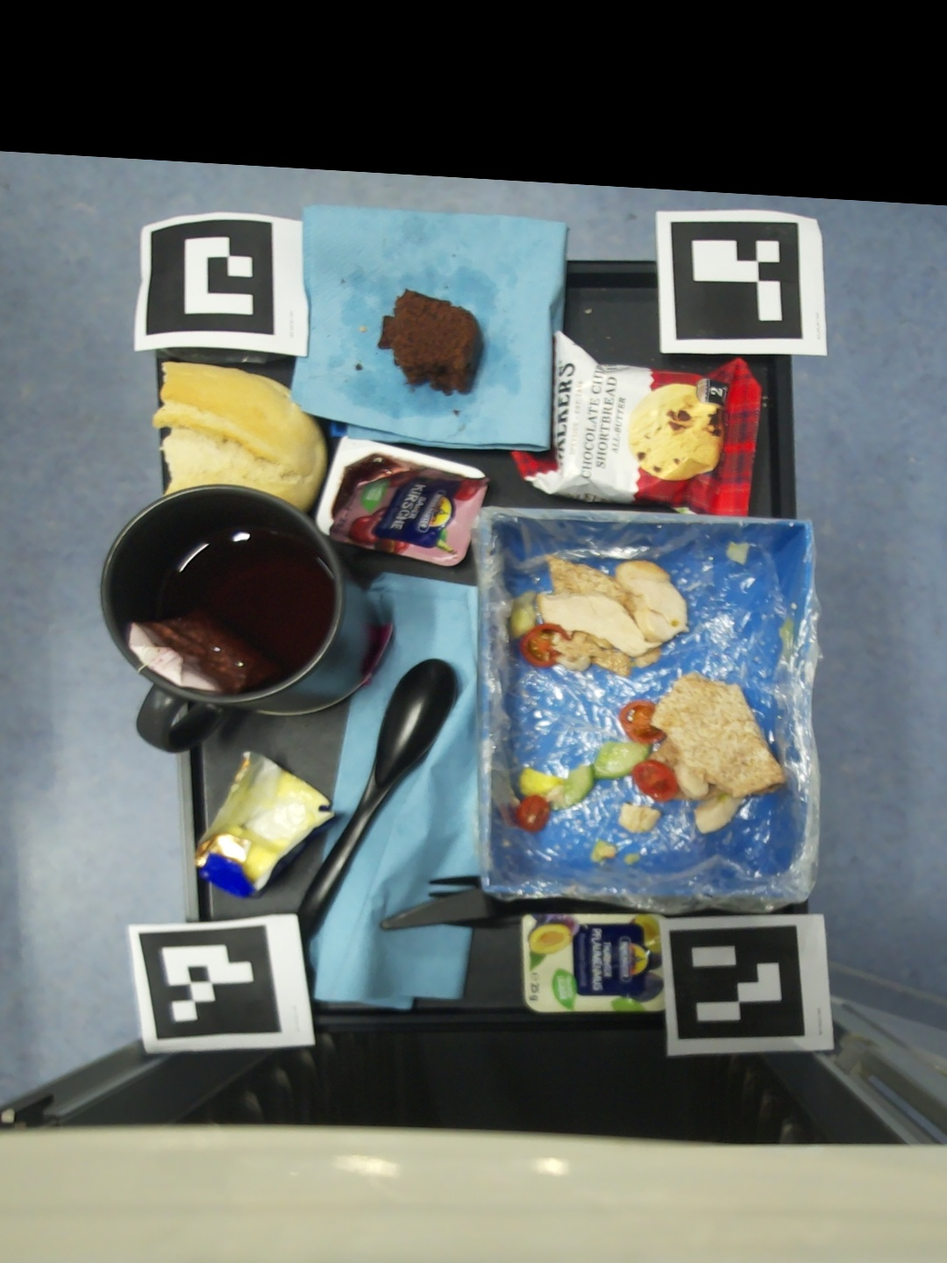bread_roll: (151, 361, 327, 511)
brownie: (379, 289, 484, 396)
butter: (195, 750, 336, 900)
cherry_jam: (315, 435, 490, 566)
cookie: (511, 330, 762, 515)
plum_jam: (522, 913, 666, 1012)
tea_cup: (101, 485, 377, 753)
wrap_half_1: (509, 554, 690, 676), (780, 617, 795, 651), (726, 542, 749, 564)
wrap_half_2: (514, 672, 787, 834), (618, 802, 661, 832), (591, 838, 617, 861), (624, 853, 641, 866)
